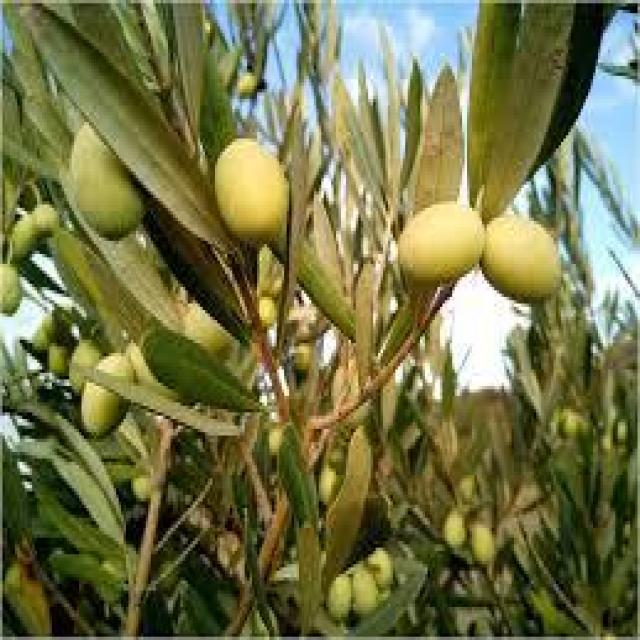Healthy: (217, 139, 287, 241), (479, 208, 556, 300), (398, 201, 482, 280)
